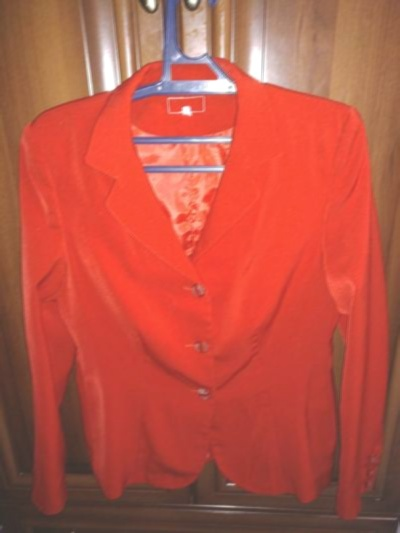Blazer: (6, 65, 385, 522)
